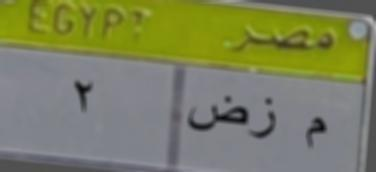2: (67, 72, 97, 121)
daad: (184, 92, 248, 138)
meem: (298, 107, 328, 158)
zay: (251, 96, 278, 144)
